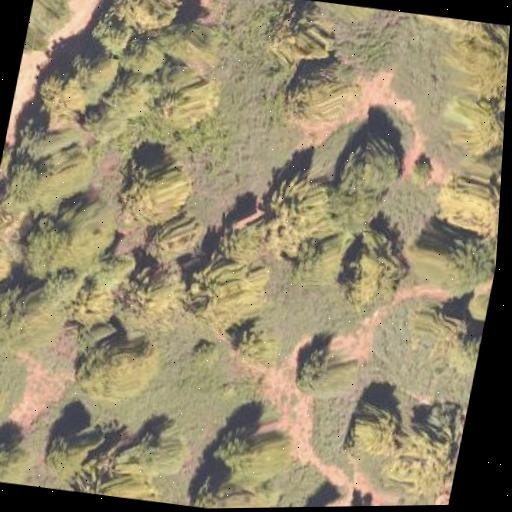tree-top: (7, 185, 130, 287), (191, 405, 317, 496), (248, 159, 356, 263), (170, 244, 284, 338), (382, 387, 471, 506), (62, 317, 177, 409), (265, 49, 376, 140), (108, 143, 211, 238), (323, 220, 421, 316), (320, 120, 423, 209), (284, 319, 382, 409), (28, 41, 131, 124), (0, 260, 84, 357), (106, 251, 190, 338), (139, 64, 234, 138), (248, 0, 350, 65), (412, 221, 498, 298), (425, 152, 503, 236), (130, 198, 218, 271), (334, 393, 413, 471), (442, 87, 506, 162), (447, 19, 510, 95), (186, 465, 283, 509), (0, 335, 29, 456), (109, 0, 179, 33)
